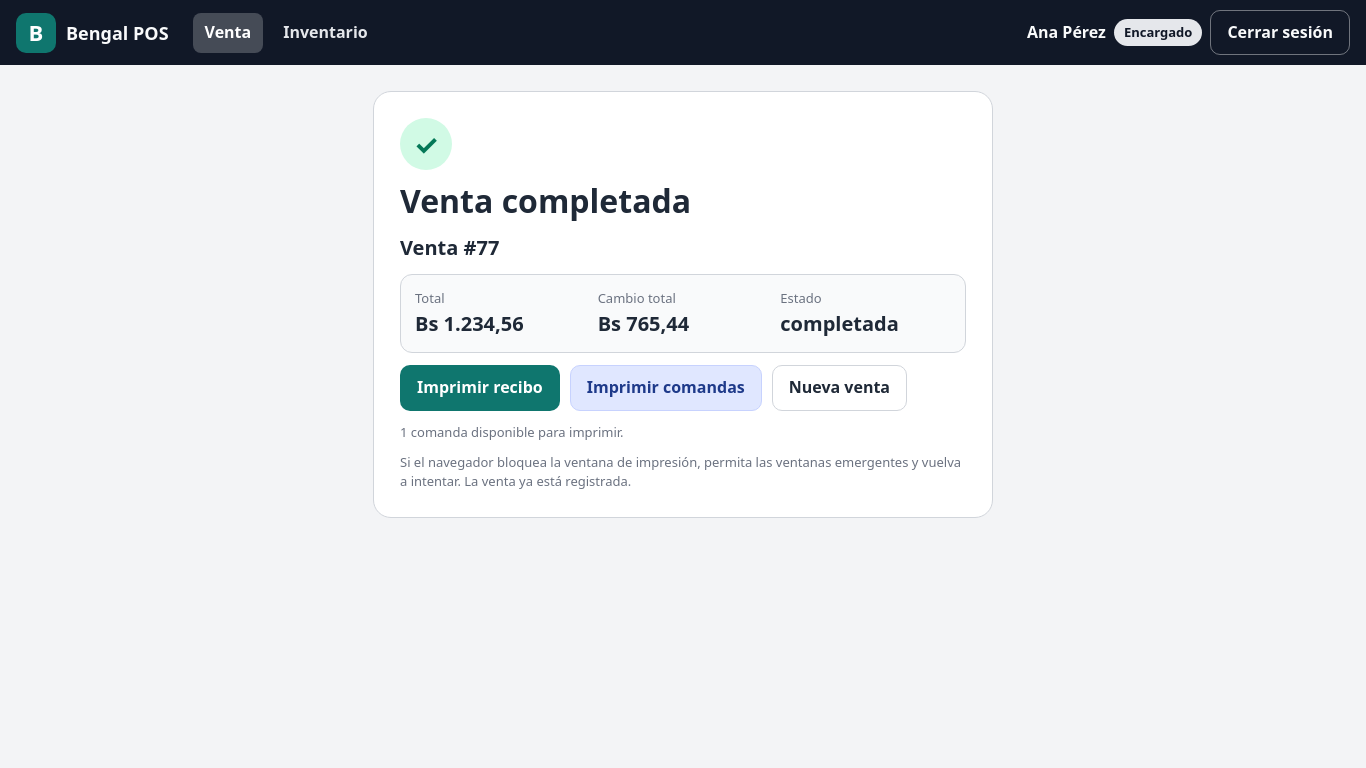
Scenario: pantalla de venta completada e impresión › informa si el navegador bloquea la ventana de impresión y permite reintentar
Expected: the heading "Venta completada" is shown, [400,182,691,221]
Click the button "Imprimir recibo".
click(480, 388)  # box [400,365,560,411]
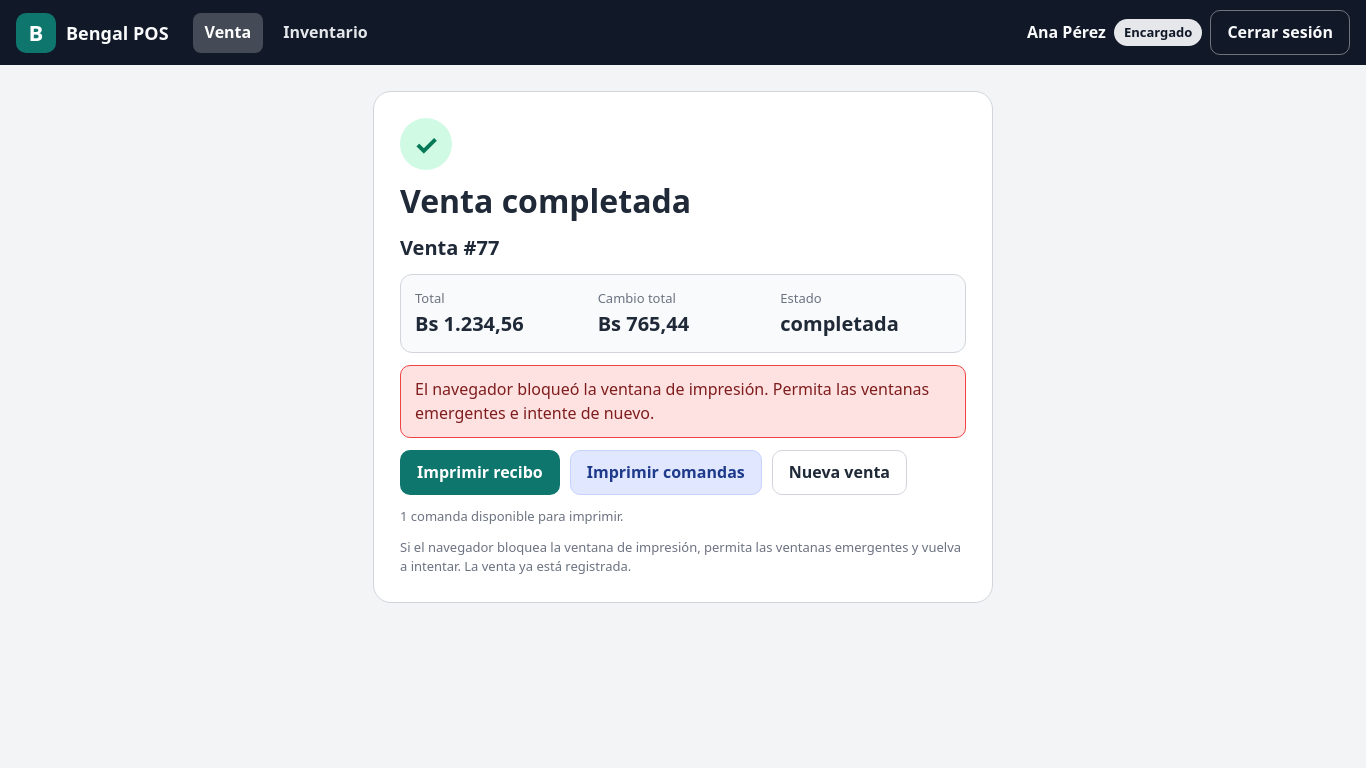
Expected: the button "Imprimir recibo" is enabled, [400,450,560,495]
Expected: the message shows "bloqueó la ventana de impresión", [415,378,929,424]
